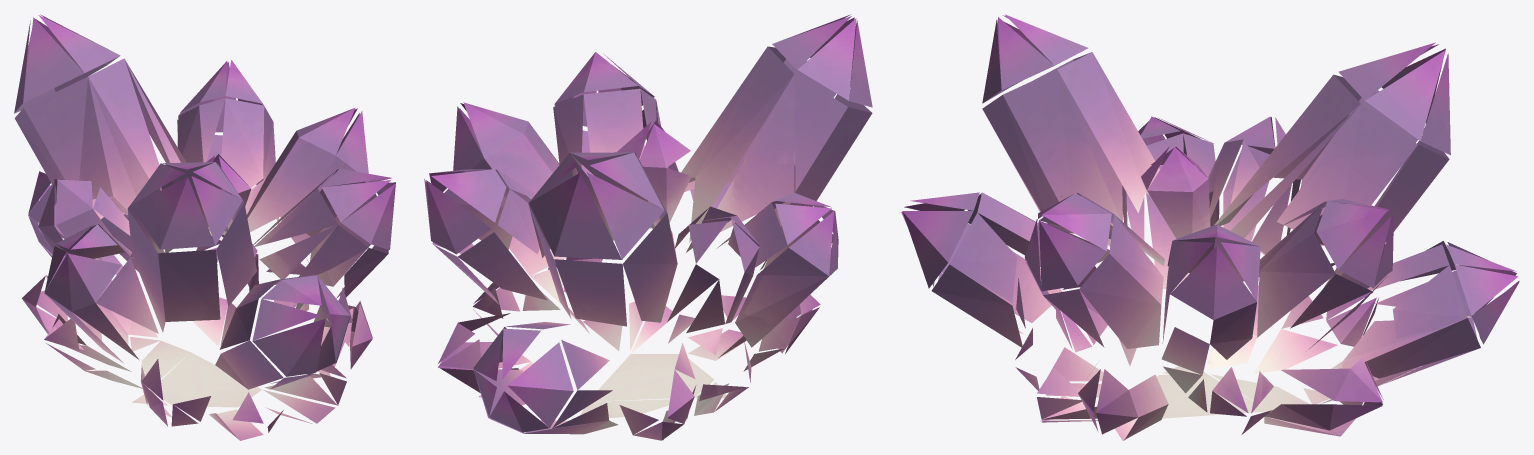
Rendered from crystal_formation_LOD2.glb.
The picture shows the model from 3 angles, left to right: view 1: azimuth 30°, elevation 25°; view 2: azimuth 150°, elevation 25°; view 3: azimuth 270°, elevation 25°; orthographic projection. The views are drawn at different scales.
Visible parts, largest first — view 1: crystal_formation_LOD2; view 2: crystal_formation_LOD2; view 3: crystal_formation_LOD2.
Boxes of the visible parts, x1,y1,x2,y2 form: crystal_formation_LOD2: (14, 14, 395, 440); crystal_formation_LOD2: (424, 14, 872, 440); crystal_formation_LOD2: (901, 14, 1519, 440).
Bounding box in the file's own units: 0.6751 × 0.589 × 1.
Materials: 1 (1 with a texture image).
